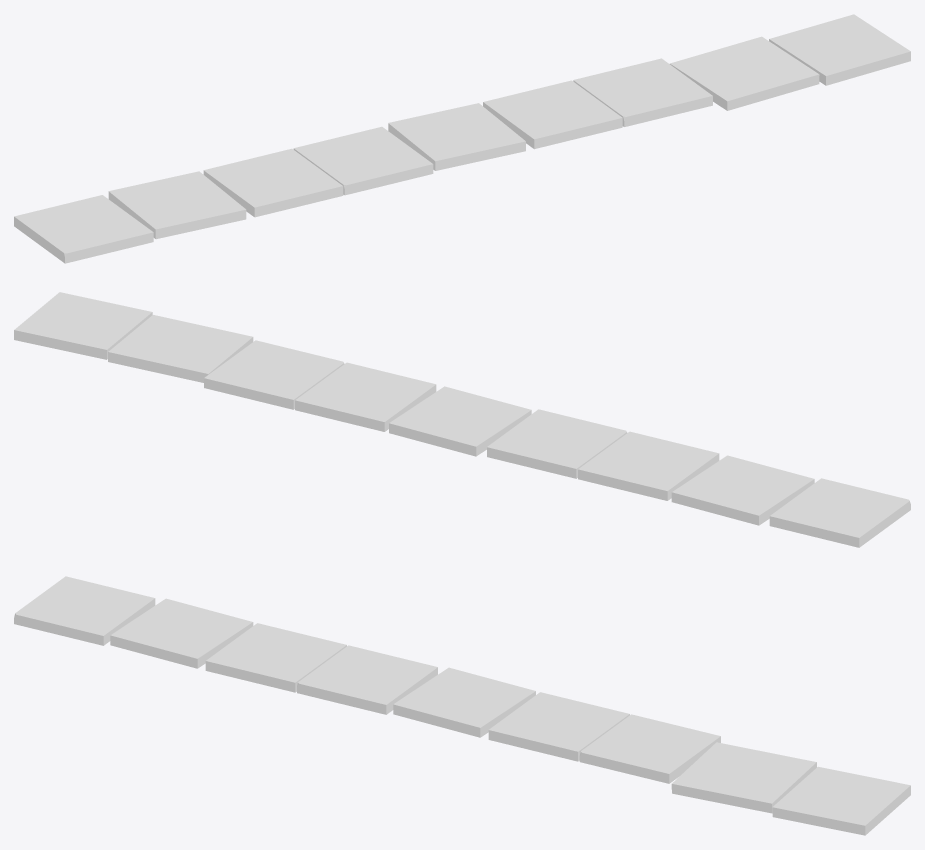
File: object_24_lev1.glb
The picture shows the model from 3 angles, top to bottom: view 1: azimuth 30°, elevation 25°; view 2: azimuth 150°, elevation 25°; view 3: azimuth 330°, elevation 25°; orthographic projection.
Parts seen in each view (by area): view 1: object_24_lev1; view 2: object_24_lev1; view 3: object_24_lev1.
Boxes of the visible parts, <box> form: object_24_lev1: <box>14,14,910,263</box>; object_24_lev1: <box>14,292,910,547</box>; object_24_lev1: <box>14,576,910,835</box>.
Bounding box in the file's own units: 1.8 × 0.0265 × 0.2197.
Materials: 1 (1 with a texture image).
